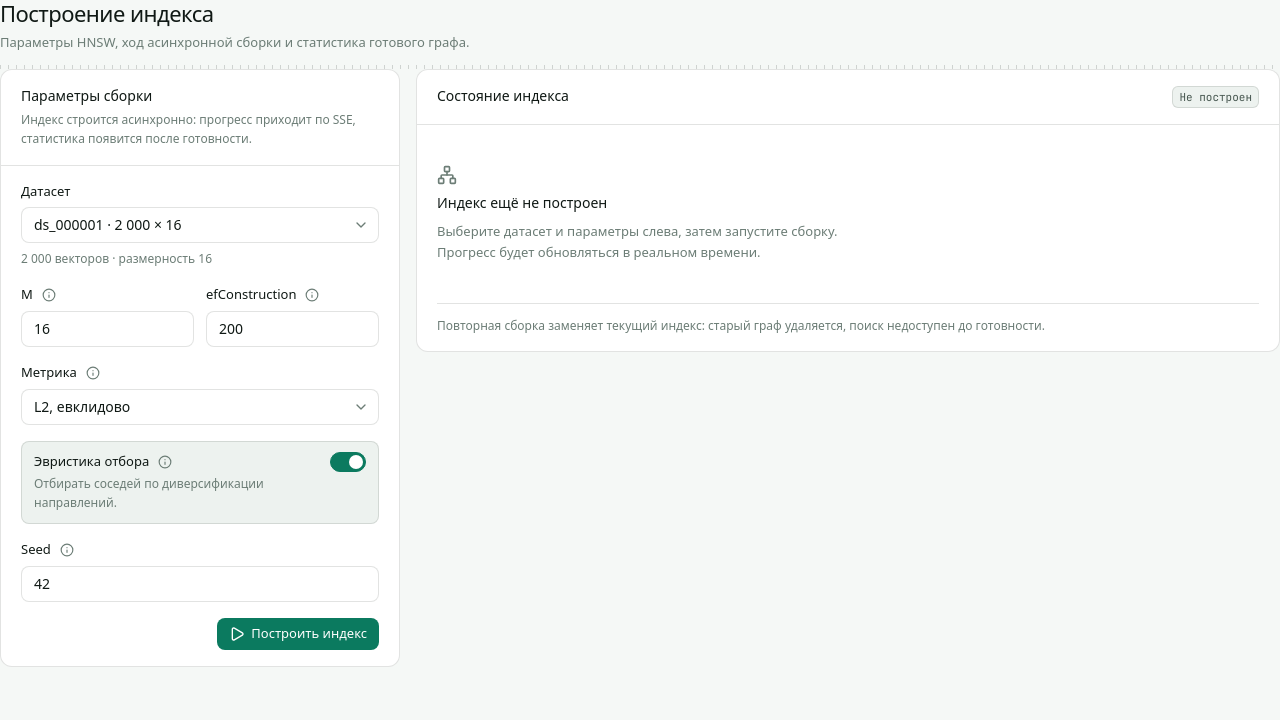
Test case: IndexPage › renders graph statistics once the index is ready
The width and height of the screenshot is (1280, 720).
Expected: the dropdown labelled "Датасет" is shown, [21,207,379,243]
Click the button "Построить индекс".
click(298, 634)  # box [217,618,379,650]
(page scrolled)
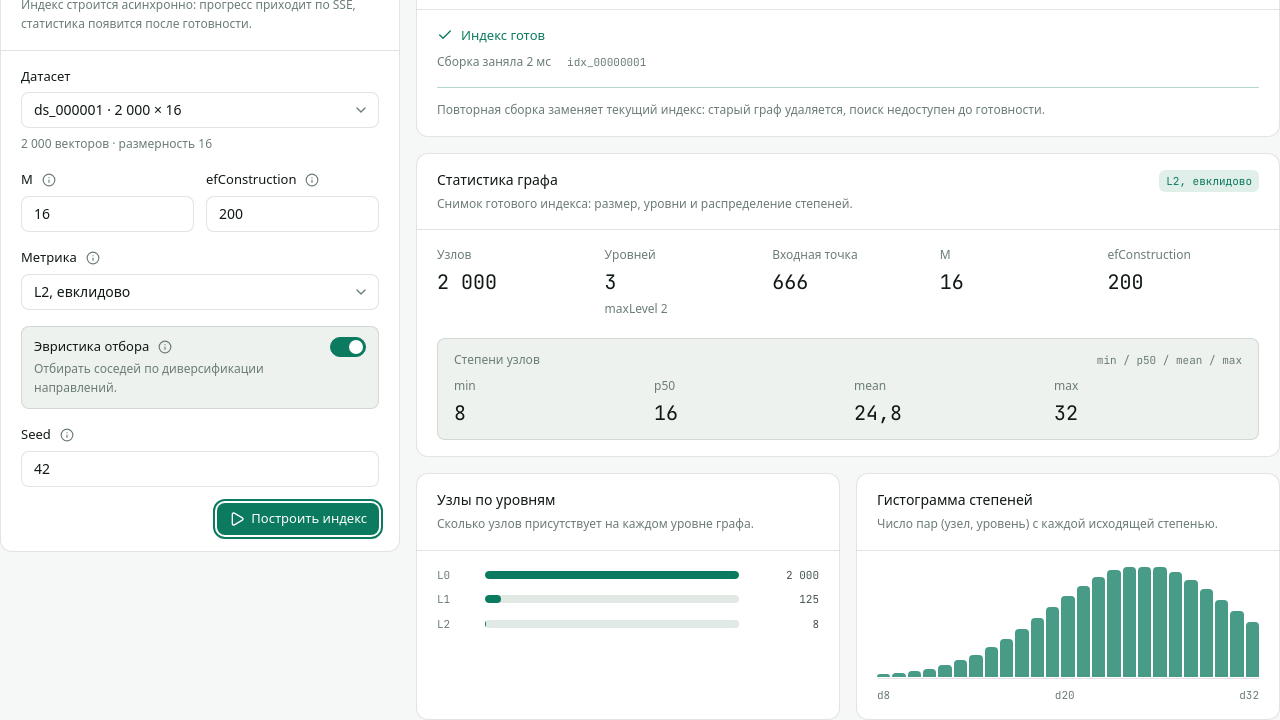
Expected: the text "Индекс готов" is shown, [461,26,545,45]
Expected: the heading "Узлы по уровням" is shown, [437,490,556,509]
Expected: the heading "Гистограмма степеней" is shown, [877,490,1033,509]
